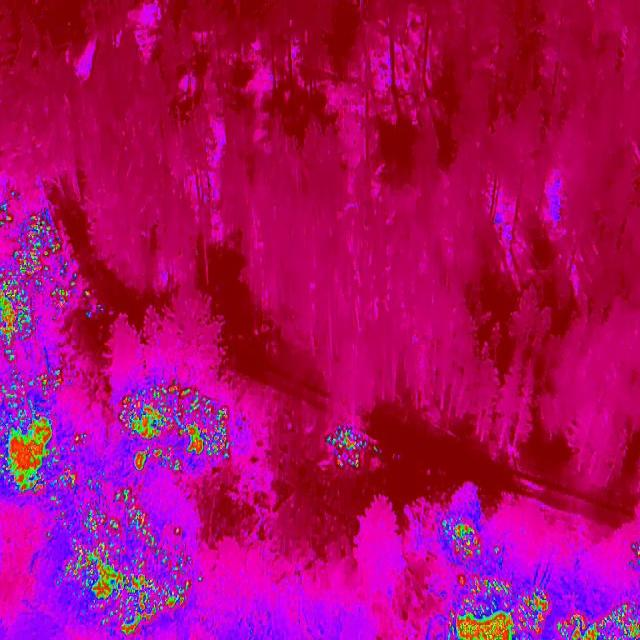fire: (51, 476, 208, 640), (0, 194, 71, 504), (117, 382, 239, 483), (432, 576, 550, 640), (430, 512, 505, 578), (324, 418, 378, 469), (557, 607, 640, 640)
